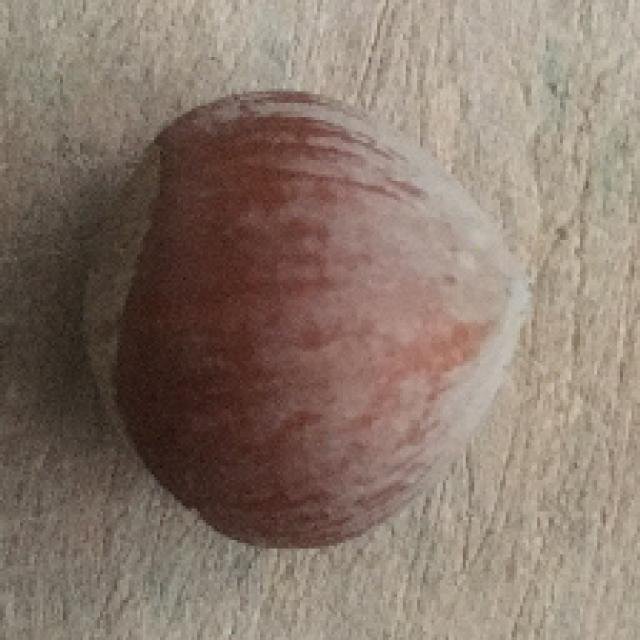qualityHazelnut: (73, 88, 535, 552)
